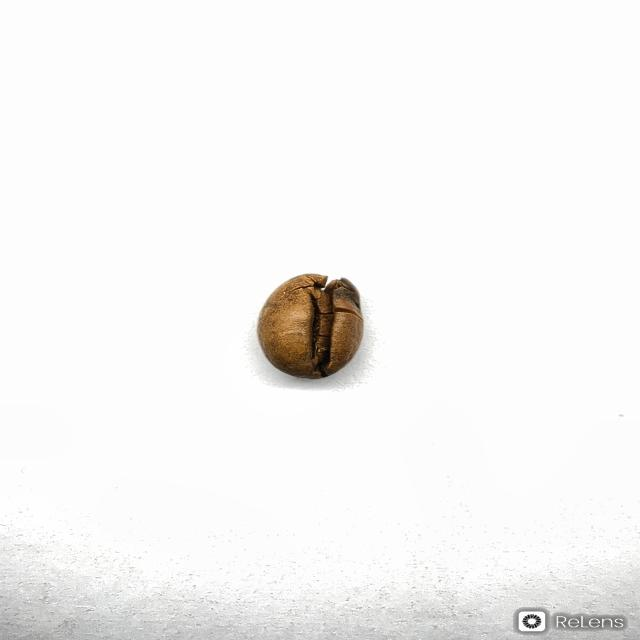Insect damage: (256, 272, 364, 379)
